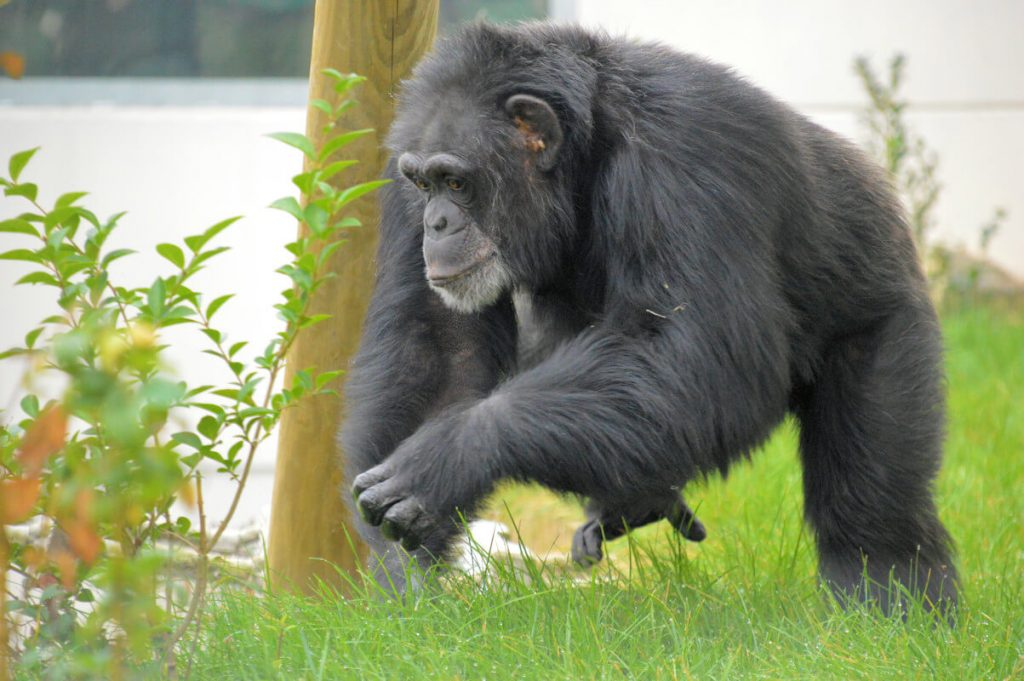Chimpanzee: (364, 15, 978, 603)
